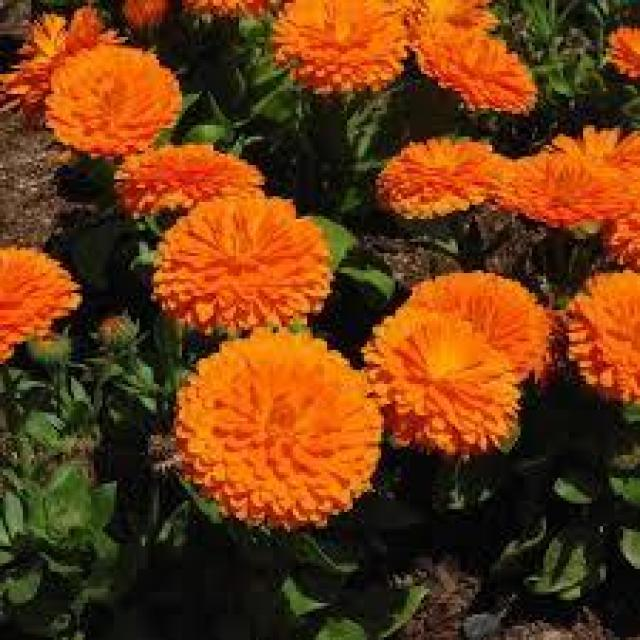organic waste: (141, 327, 380, 535), (338, 309, 532, 465), (135, 198, 340, 323), (371, 256, 553, 384), (31, 43, 199, 148), (268, 6, 416, 102), (108, 139, 279, 222), (512, 130, 631, 243), (371, 128, 499, 228), (414, 22, 542, 116), (0, 238, 88, 352), (569, 257, 640, 397)
